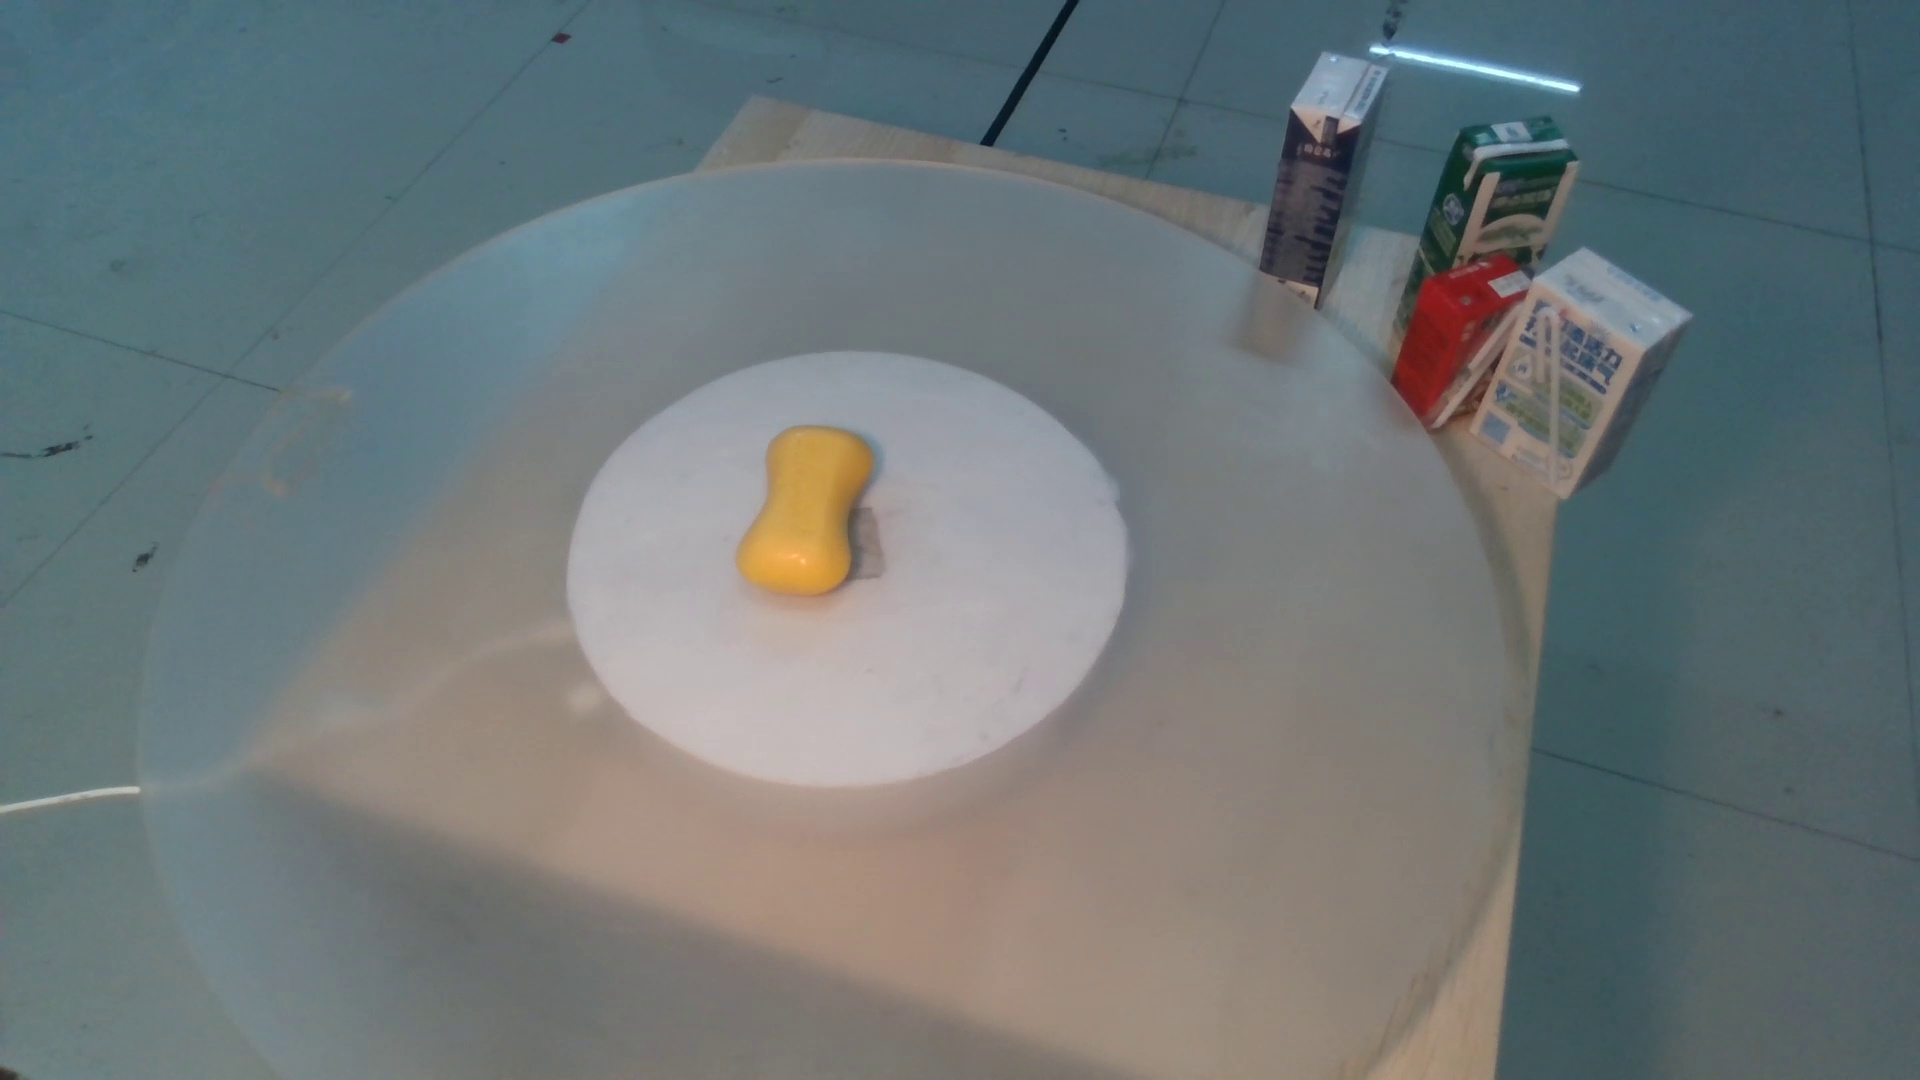CA003_1: (720, 409, 901, 603)
